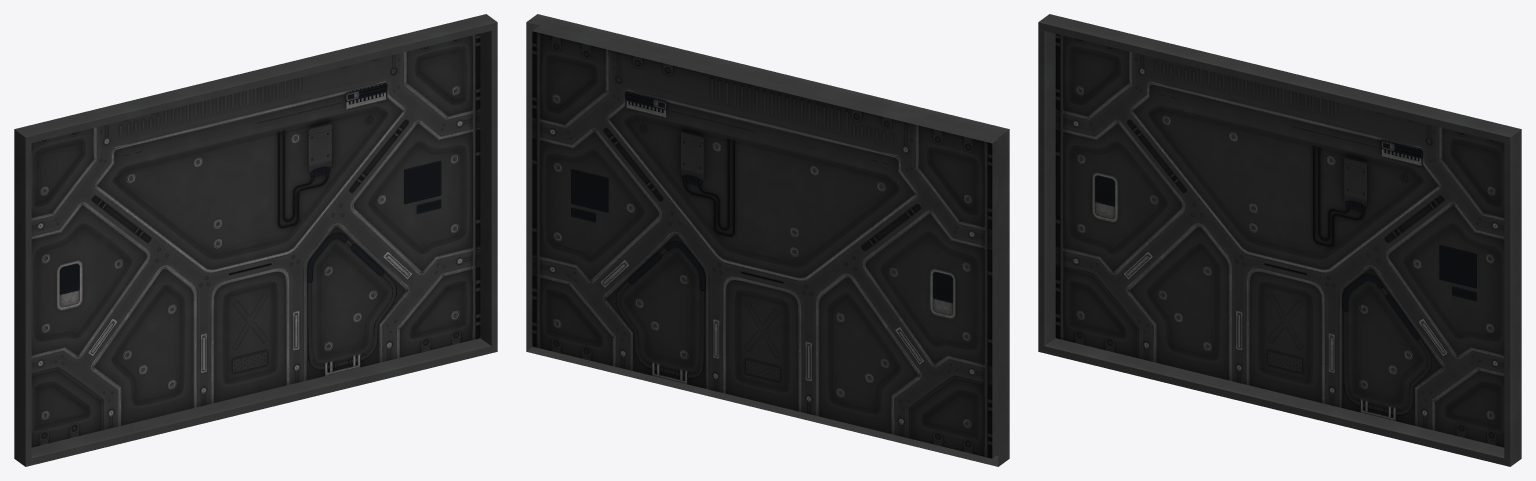
The model's file is Panel_C_2x3_2_L3.FBX.
3 views of the same model, side by side, from view 1: azimuth 30°, elevation 25°; view 2: azimuth 150°, elevation 25°; view 3: azimuth 330°, elevation 25° (orthographic).
Parts seen in each view (by area): view 1: Panel_C_2x3_2_L3; view 2: Panel_C_2x3_2_L3; view 3: Panel_C_2x3_2_L3.
Part boxes in pixels (bbox=[...]): Panel_C_2x3_2_L3: bbox=[14, 14, 497, 466]; Panel_C_2x3_2_L3: bbox=[526, 14, 1009, 466]; Panel_C_2x3_2_L3: bbox=[1038, 14, 1521, 466].
Bounding box in the file's own units: 300 × 200 × 12.52.
